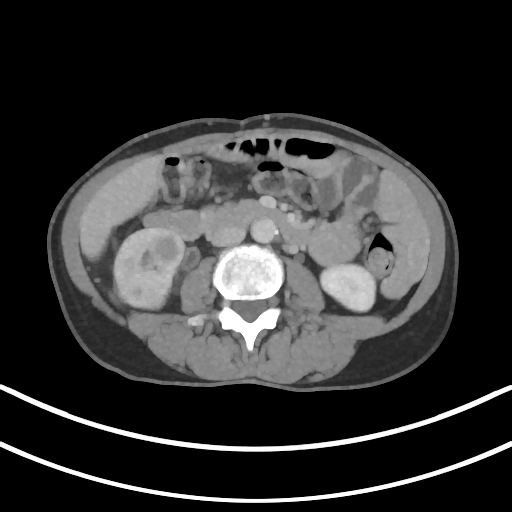Lesion: (147, 231, 182, 264)
